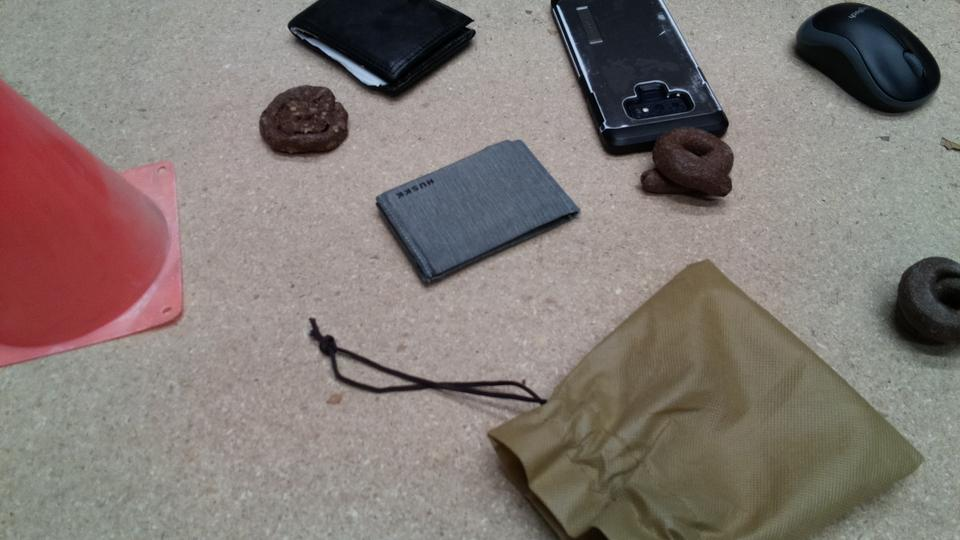poop: (638, 123, 737, 201), (256, 83, 350, 157), (893, 255, 960, 350)
